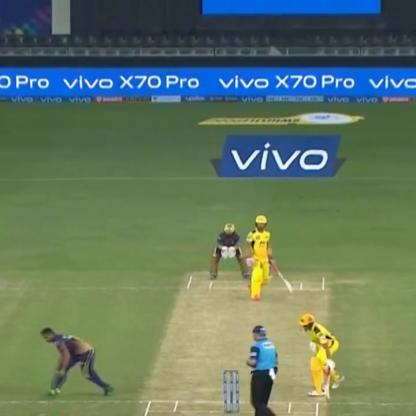ball: (42, 386, 61, 399)
pitch: (136, 262, 328, 416)
